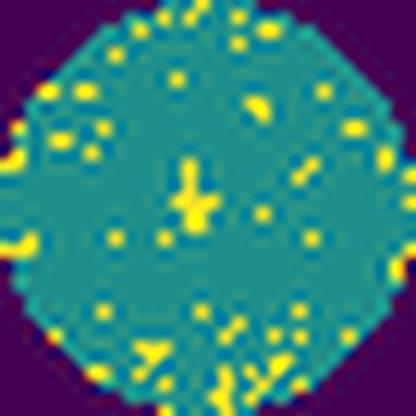Center: (164, 155, 226, 241)
